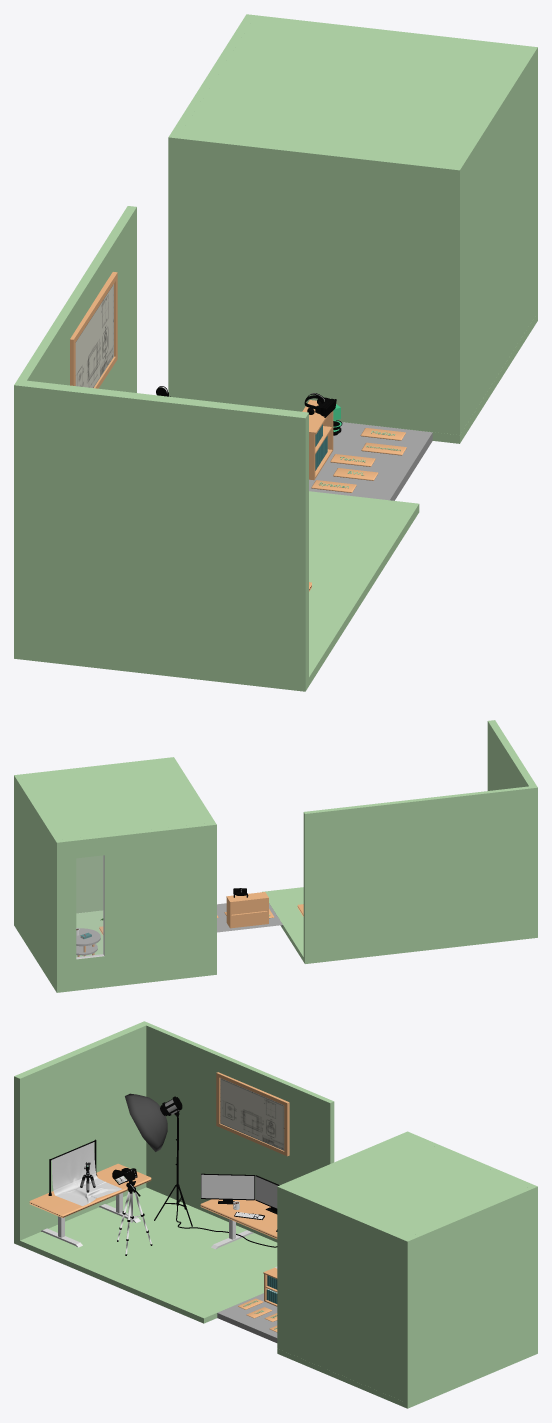
Rendered from tableexport2.glb.
3 views of the same model, one above another, from view 1: azimuth 30°, elevation 25°; view 2: azimuth 150°, elevation 25°; view 3: azimuth 270°, elevation 25° (orthographic). The views are drawn at different scales.
Parts seen in each view (by area): view 1: WallCover, WallRoom3, Wall, FloorRoom2, BildTechZeich, BoxFrame.001; view 2: WallRoom3, Wall, WallCover, GlasWindow, BoxFrame.001, FloorRoom2, TableSmall; view 3: WallRoom3, WallCover, Wall, BildTechZeich, Tuchgestell, SoftboxSchirm, TableTop.002, TableTop.001, FloorRoom2, PcScreen3DL, TableFoot.002, StativCamera (+1 smaller).
Part boxes in pixels (box(x1,y1,x2,y2)): WallCover: box(177, 19, 535, 435); WallRoom3: box(14, 206, 419, 691); Wall: box(168, 14, 537, 443); FloorRoom2: box(309, 422, 432, 500); BildTechZeich: box(70, 272, 117, 388); BoxFrame.001: box(302, 400, 333, 480); WallRoom3: box(262, 720, 537, 963); Wall: box(14, 774, 216, 992); WallCover: box(19, 757, 215, 913); GlasWindow: box(76, 855, 103, 957); BoxFrame.001: box(226, 892, 268, 928); FloorRoom2: box(217, 903, 282, 932); TableSmall: box(76, 928, 100, 956); WallRoom3: box(14, 1021, 334, 1323); WallCover: box(277, 1133, 529, 1401); Wall: box(277, 1131, 537, 1408); BildTechZeich: box(216, 1072, 289, 1156); Tuchgestell: box(48, 1139, 122, 1206); SoftboxSchirm: box(125, 1093, 167, 1151); TableTop.002: box(29, 1163, 151, 1217); TableTop.001: box(200, 1199, 277, 1238); FloorRoom2: box(217, 1293, 277, 1342); PcScreen3DL: box(201, 1174, 254, 1199); TableFoot.002: box(41, 1193, 140, 1247); StativCamera: box(117, 1178, 152, 1255).
Size of the model in its own units: 60.87 by 21.52 by 61.14.
99 materials, 4 textured.
